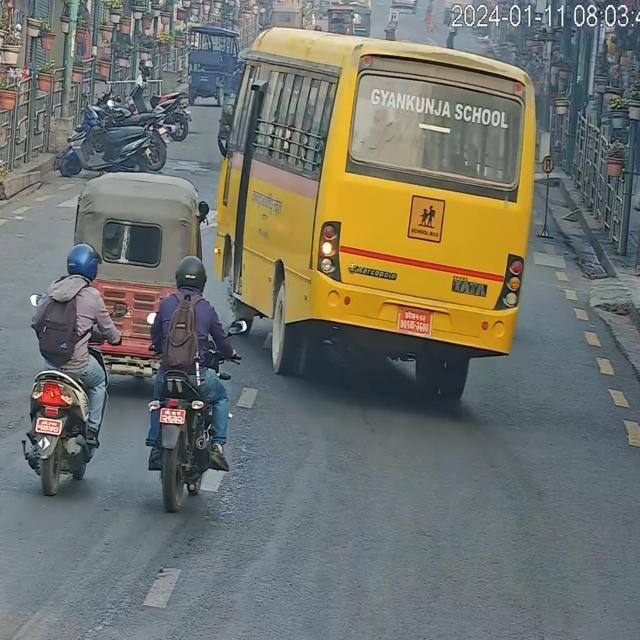license_plate: (138, 383, 205, 446), (22, 395, 77, 457), (391, 301, 434, 341)
